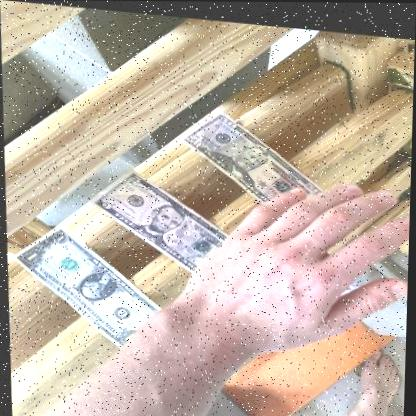dollar_back: (9, 223, 162, 347)
dollar_front: (180, 107, 326, 217), (87, 166, 231, 271)
